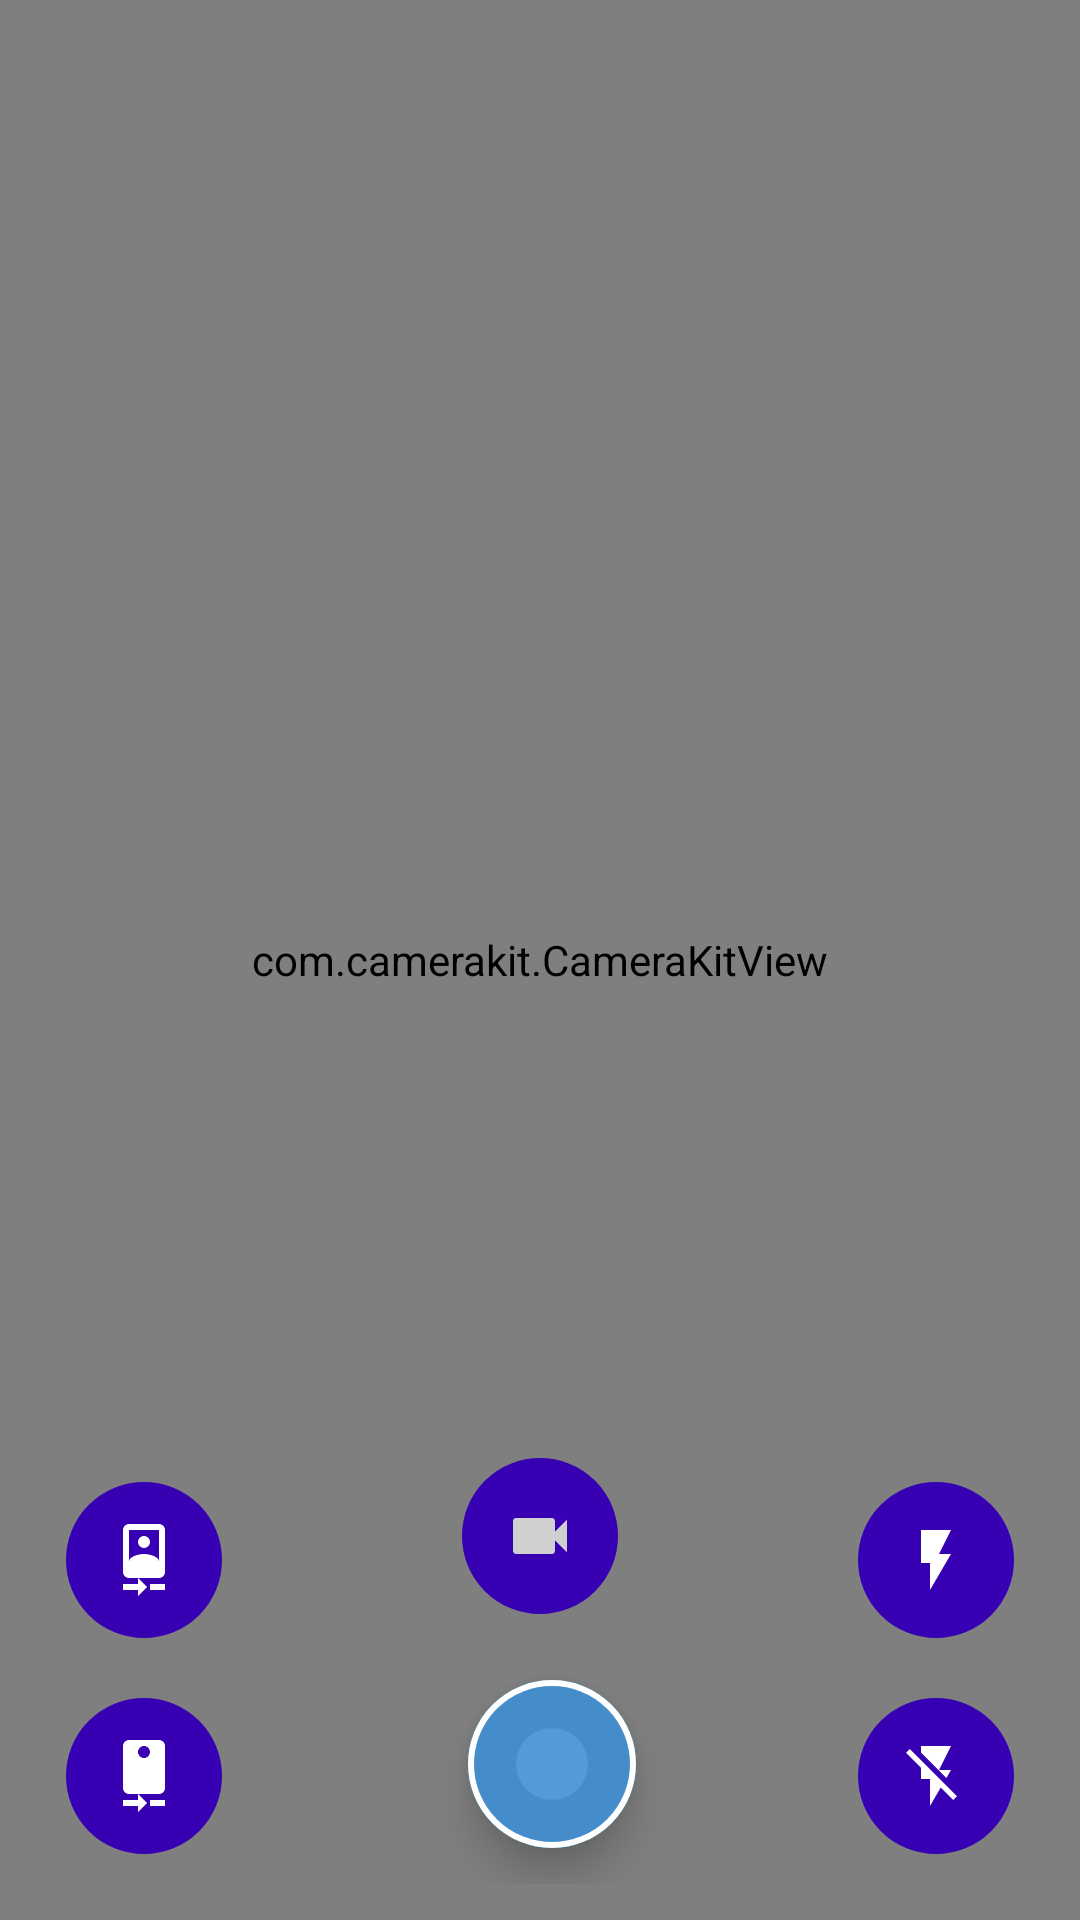

Screen size 1080×1920. Icon name, then its center in pixels as (x,y):
capture pic: (552,1764)
facing back: (144,1776)
facing front: (144,1560)
flash off: (936,1776)
flash on: (936,1560)
video: (540,1536)
